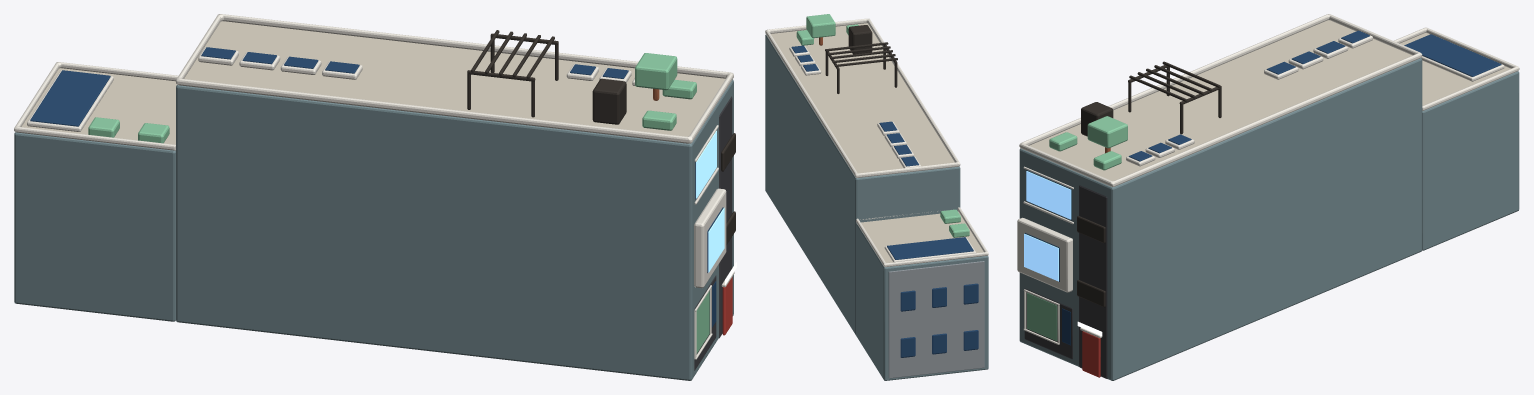
File: mid.glb
3 renders of one model, left to right at view 1: azimuth 30°, elevation 25°; view 2: azimuth 150°, elevation 25°; view 3: azimuth 270°, elevation 25°, orthographic. The views are drawn at different scales.
Visible parts, largest first — view 1: grp_Toy_slate_Toy_stone, grp_Toy_trim, grp_Toy_glass, grp_Toy_mint, grp_Toy_ink, grp_Toy_roofd, grp_Toy_glassl_Glow; view 2: grp_Toy_slate_Toy_stone, rear_face, grp_Toy_trim, grp_Toy_glass, grp_Toy_ink, grp_Toy_mint; view 3: grp_Toy_slate_Toy_stone, grp_Toy_trim, grp_Toy_roofd, grp_Toy_glass, grp_Toy_ink, grp_Toy_mint, grp_Toy_glassl_Glow, door.
Boxes of the visible parts, x1=… form: grp_Toy_slate_Toy_stone: x1=14, y1=21, x2=733, y2=380; grp_Toy_trim: x1=14, y1=14, x2=734, y2=359; grp_Toy_glass: x1=30, y1=47, x2=723, y2=327; grp_Toy_mint: x1=88, y1=53, x2=709, y2=353; grp_Toy_ink: x1=467, y1=30, x2=735, y2=244; grp_Toy_roofd: x1=694, y1=96, x2=732, y2=370; grp_Toy_glassl_Glow: x1=696, y1=130, x2=724, y2=272; grp_Toy_slate_Toy_stone: x1=765, y1=23, x2=988, y2=380; rear_face: x1=888, y1=261, x2=984, y2=378; grp_Toy_trim: x1=765, y1=18, x2=988, y2=267; grp_Toy_glass: x1=791, y1=45, x2=978, y2=357; grp_Toy_ink: x1=825, y1=25, x2=897, y2=93; grp_Toy_mint: x1=796, y1=14, x2=969, y2=237; grp_Toy_slate_Toy_stone: x1=1019, y1=20, x2=1519, y2=380; grp_Toy_trim: x1=1017, y1=14, x2=1519, y2=344; grp_Toy_roofd: x1=1024, y1=185, x2=1107, y2=378; grp_Toy_glass: x1=1024, y1=30, x2=1501, y2=345; grp_Toy_ink: x1=1077, y1=61, x2=1221, y2=307; grp_Toy_mint: x1=1027, y1=116, x2=1127, y2=341; grp_Toy_glassl_Glow: x1=1024, y1=171, x2=1071, y2=281; door: x1=1082, y1=331, x2=1100, y2=377.
Size of the model in its own units: 26.09 by 13.2 by 26.29.
